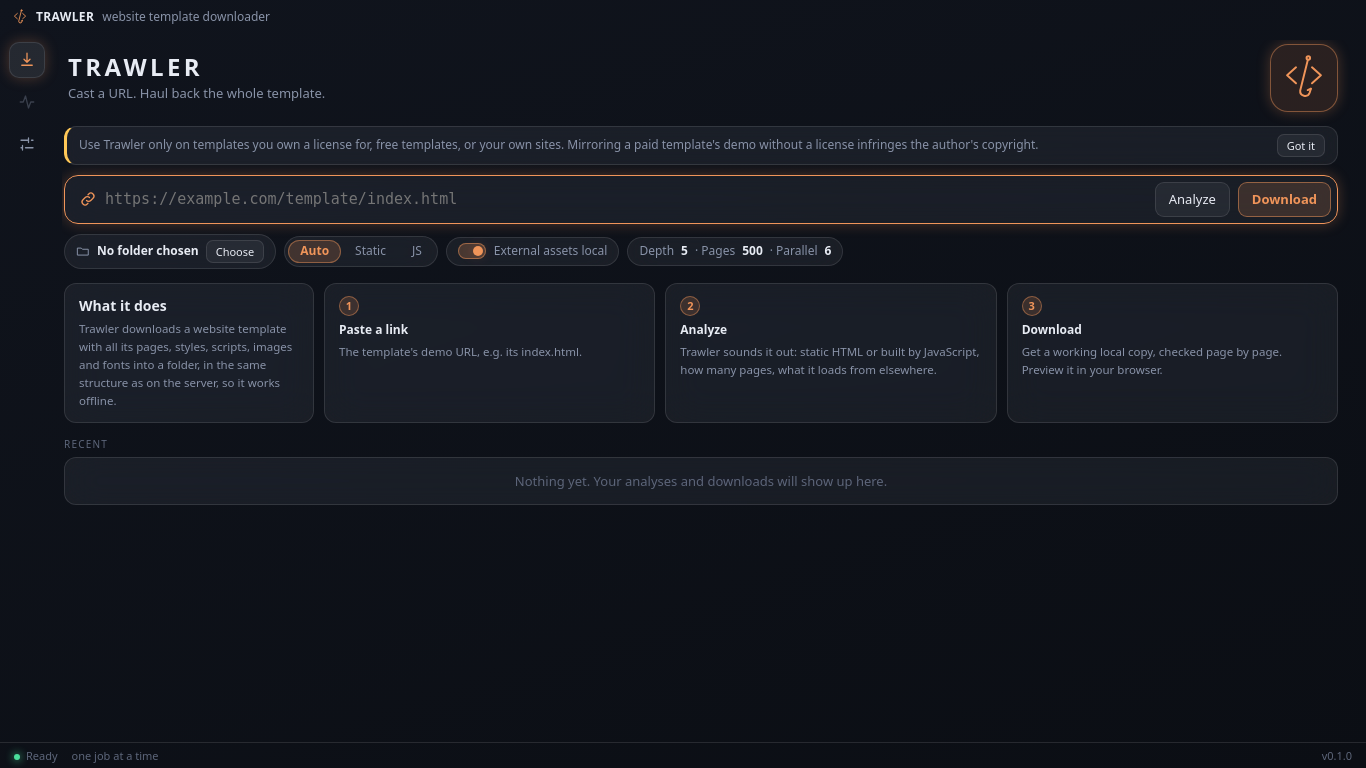
Start screen › asks to accept the legal note, once
Click the button "Got it" at (1301, 146), box [1277,134,1325,157]
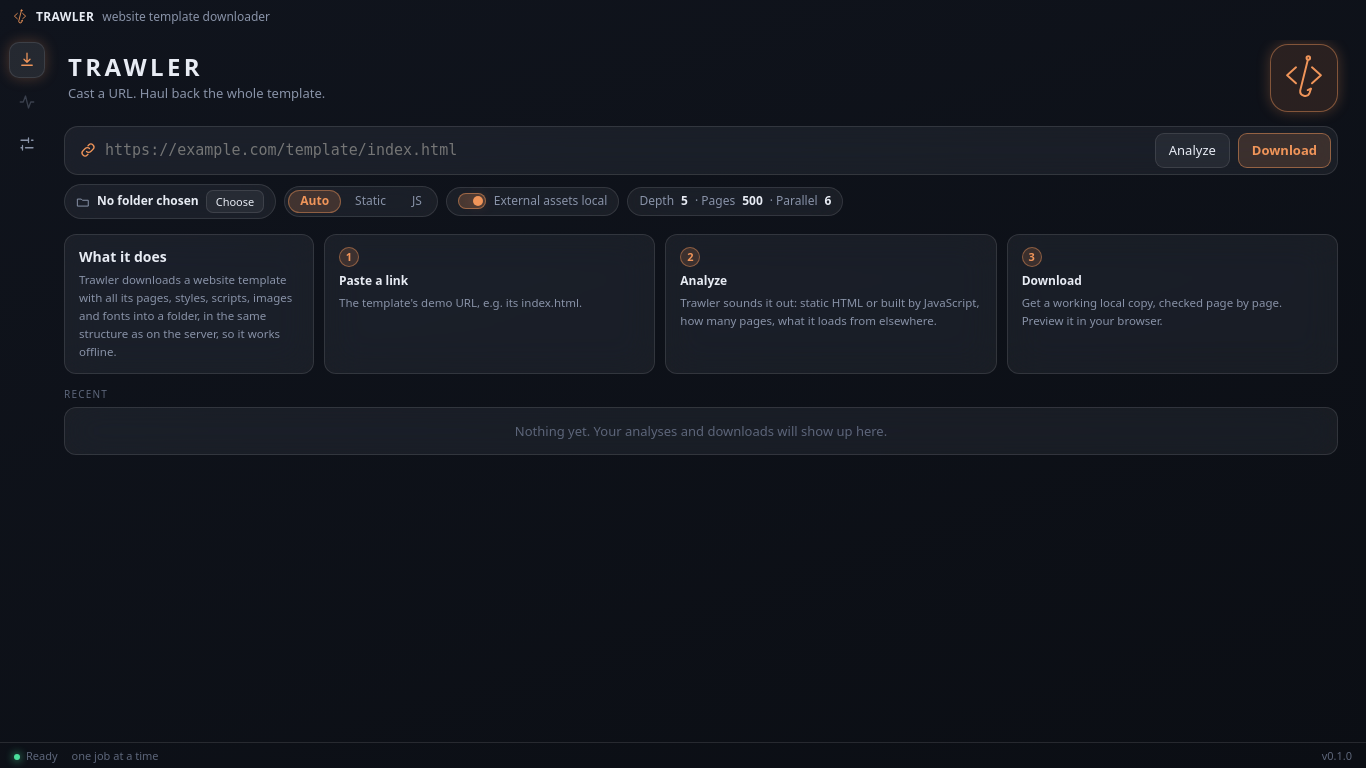
Expected: the button "Got it" is gone
